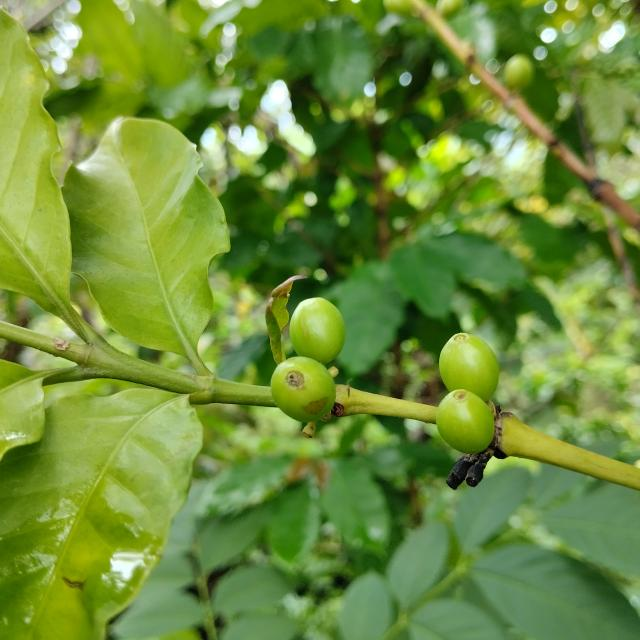green: (271, 357, 336, 423), (440, 333, 500, 402), (436, 390, 495, 454), (289, 298, 346, 364)
